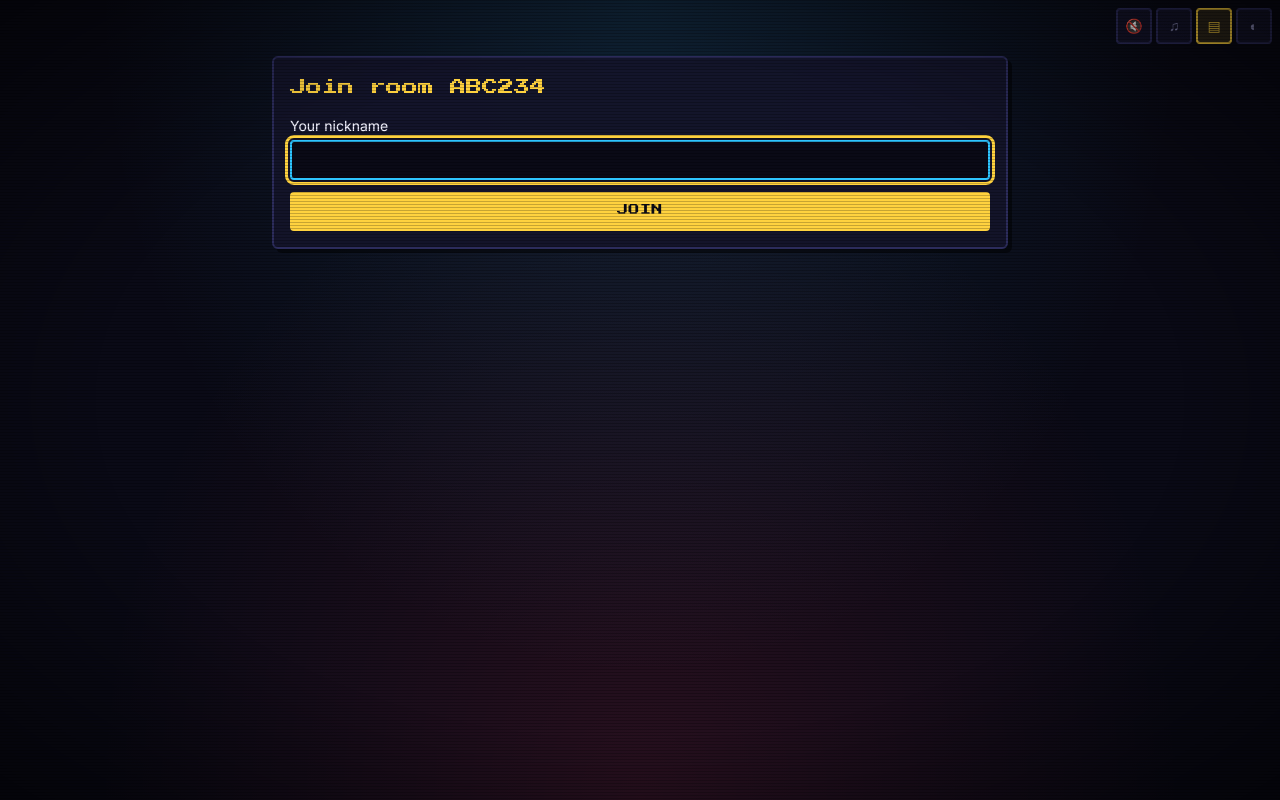
Test case: joining › asks for a nickname when there is no stored session, then shows the lobby
The image size is (1280, 800).
Type "Sam" into the field labelled "Your nickname" at (640, 160), box [290,140,990,180]
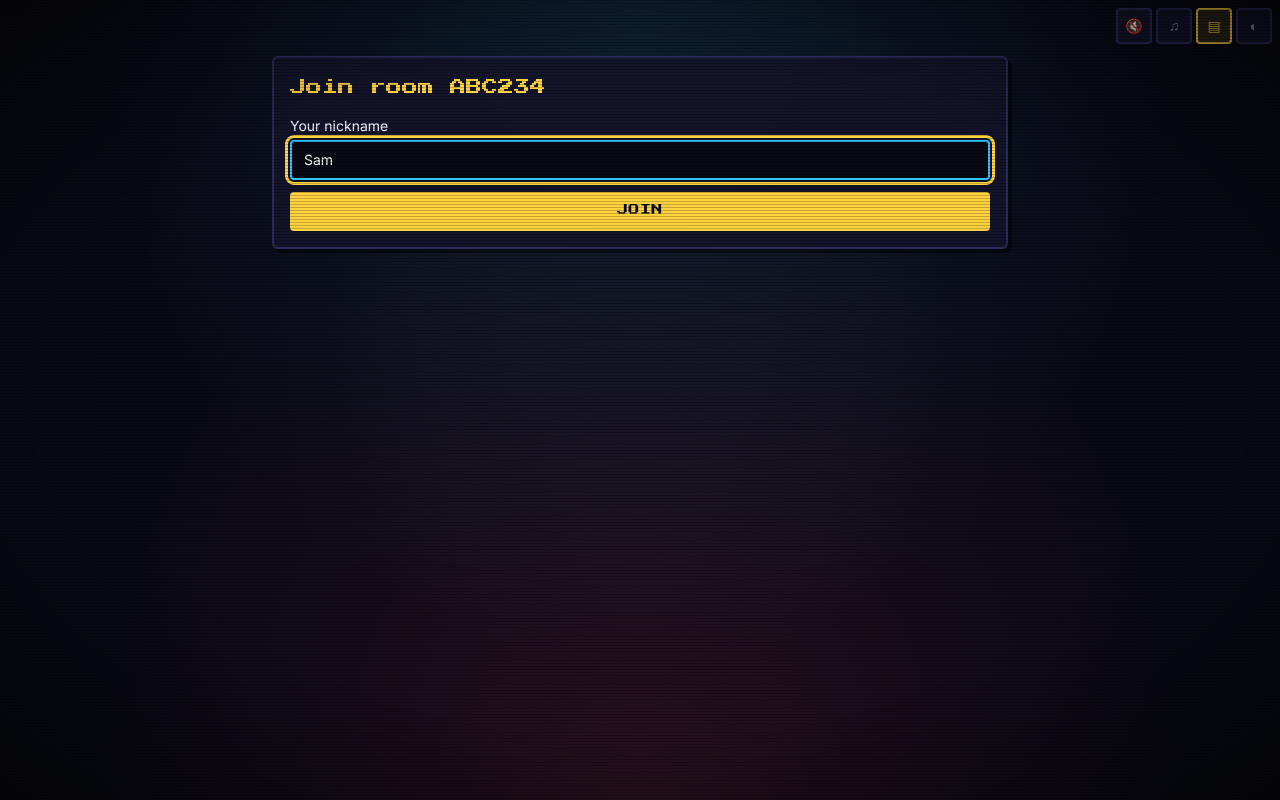
Click the button "Join" at (640, 211), box [290,192,990,230]
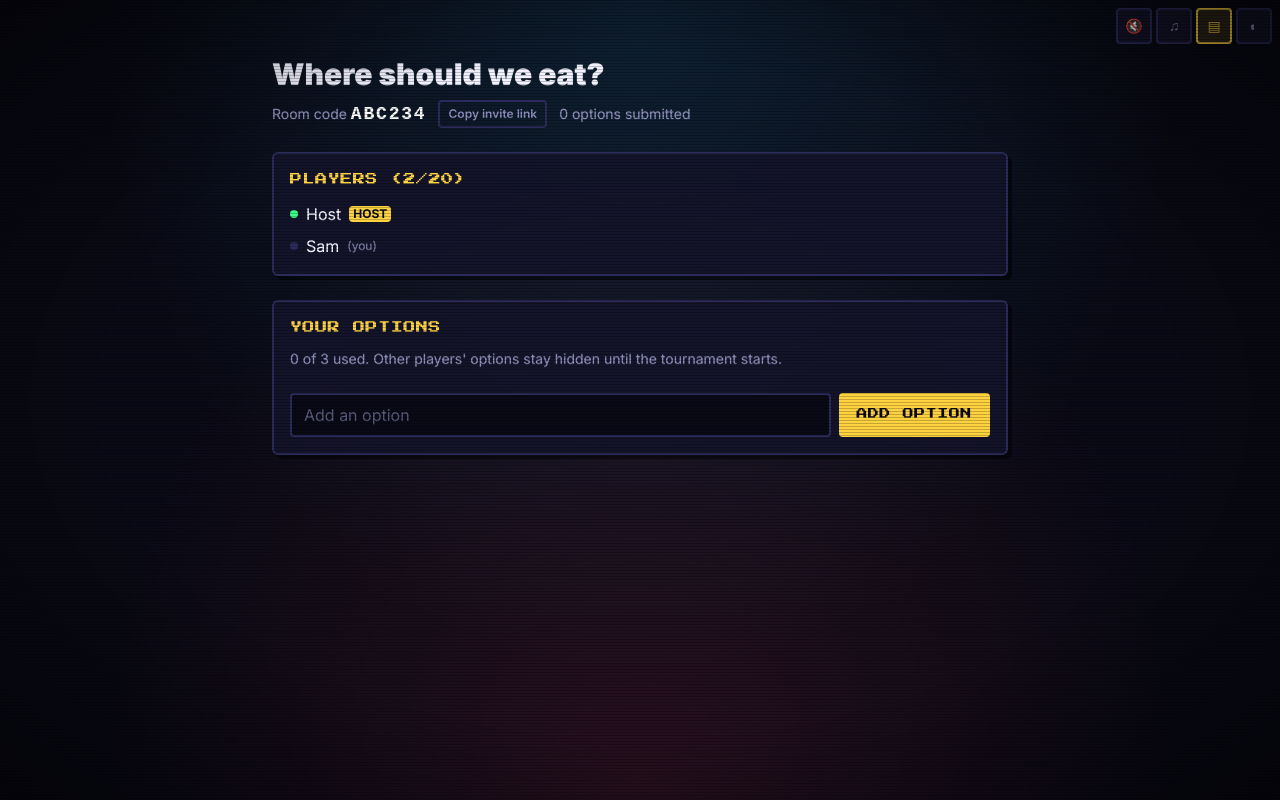
Expected: the heading "Where should we eat?" is shown, [272,56,604,92]
